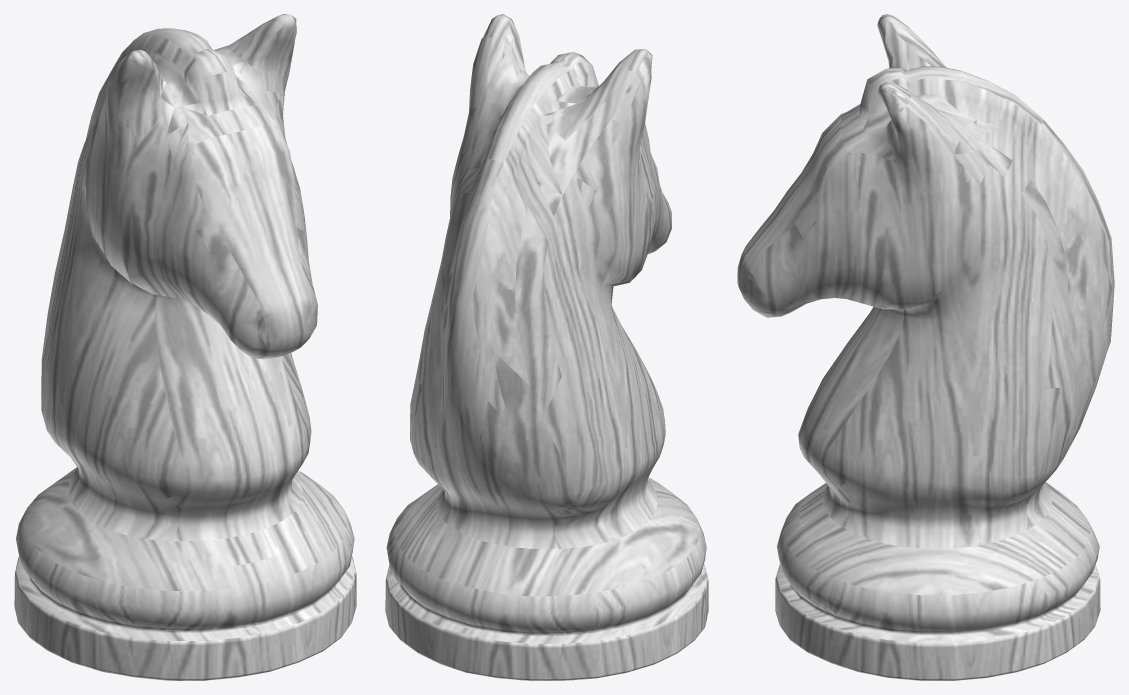
File: horse.glb
3 renders of one model, left to right at view 1: azimuth 30°, elevation 25°; view 2: azimuth 150°, elevation 25°; view 3: azimuth 270°, elevation 25°, orthographic. The views are drawn at different scales.
Visible parts, largest first — view 1: piece_knight_white_01; view 2: piece_knight_white_01; view 3: piece_knight_white_01.
Boxes of the visible parts, x1,y1,x2,y2 form: piece_knight_white_01: (14, 14, 356, 680); piece_knight_white_01: (385, 14, 708, 680); piece_knight_white_01: (737, 14, 1114, 680).
Size of the model in its own units: 0.7759 by 1.5 by 0.9076.
Materials: 1 (1 with a texture image).
